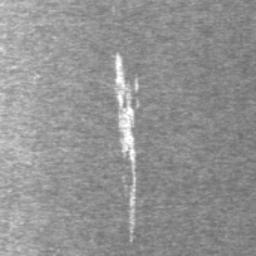White rust: (115, 51, 140, 242)
